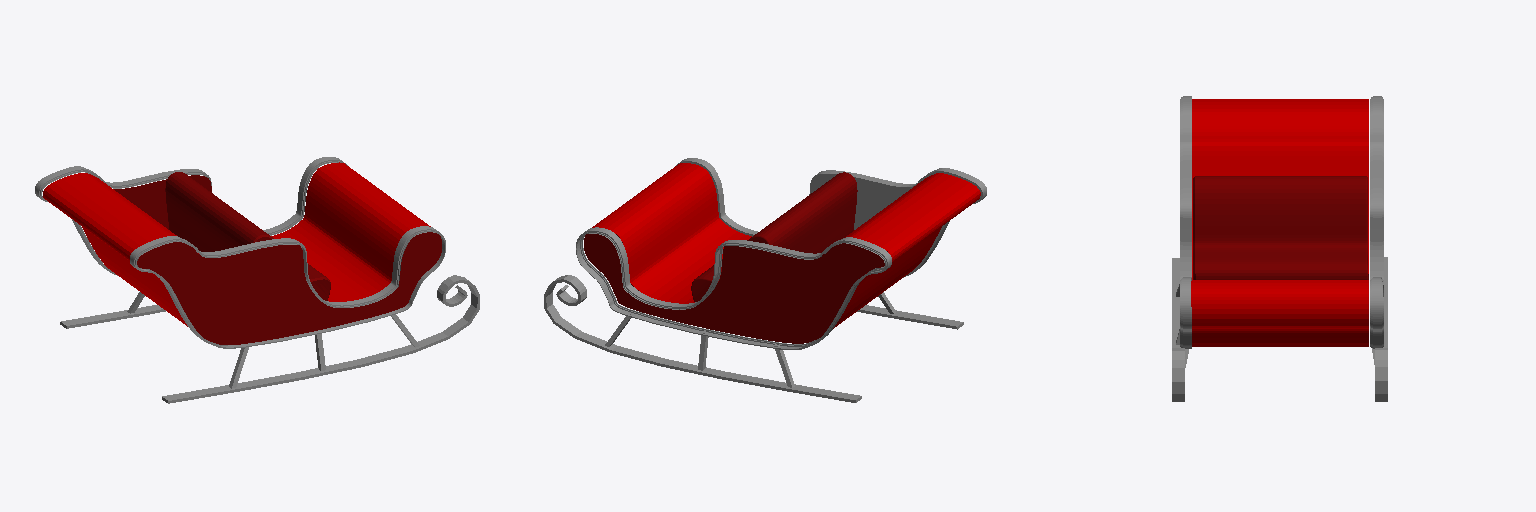
The model's file is trineo.obj.
3 views of the same model, side by side, from view 1: azimuth 30°, elevation 25°; view 2: azimuth 150°, elevation 25°; view 3: azimuth 270°, elevation 25° (orthographic).
Visible parts, largest first — view 1: Loft, Tappo_2_8, SOFA, Loft_1_4, Estrusione, Stondatura, Tappo_1_8, Estrusione_1, Stondatura_1_2, Loft_1_2; view 2: Loft, Tappo_1_8, SOFA, Loft_1_2, Estrusione_1, Tappo, Stondatura_2_2, Estrusione, Stondatura_1_2, Loft_1_4; view 3: Loft, SOFA, Estrusione, Estrusione_1, Loft_1_4, Loft_1_2, Stondatura, Stondatura_1_2, Stondatura_2_2.
Part boxes in pixels (x1,y1,x2,y2): Loft: (43,162,430,326); Tappo_2_8: (137,232,441,344); SOFA: (166,172,326,279); Loft_1_4: (162,275,479,403); Estrusione: (130,226,444,346); Stondatura: (134,229,445,348); Tappo_1_8: (114,175,211,229); Estrusione_1: (35,157,341,268); Stondatura_1_2: (39,160,347,275); Loft_1_2: (60,305,165,328); Loft: (592,163,980,328); Tappo_1_8: (584,234,887,343); SOFA: (697,172,857,279); Loft_1_2: (544,275,861,402); Estrusione_1: (577,227,891,348); Tappo: (676,161,982,277); Stondatura_2_2: (576,231,887,349); Estrusione: (681,158,986,271); Stondatura_1_2: (580,235,883,346); Loft_1_4: (857,305,963,329); Loft: (1191,99,1368,346); SOFA: (1195,176,1366,279); Estrusione: (1182,96,1191,348); Estrusione_1: (1372,96,1381,348); Loft_1_4: (1172,258,1184,401); Loft_1_2: (1375,257,1387,401); Stondatura: (1180,97,1182,347); Stondatura_1_2: (1370,97,1372,347); Stondatura_2_2: (1381,97,1383,347).
Size of the model in its own units: 311 by 147 by 170.